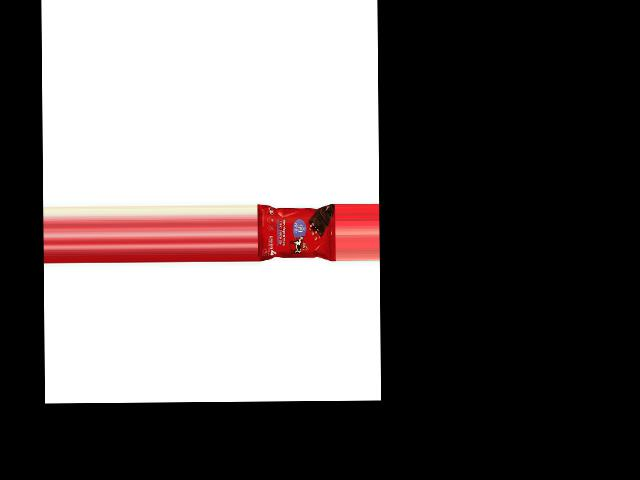chocolate: (256, 203, 335, 259)
